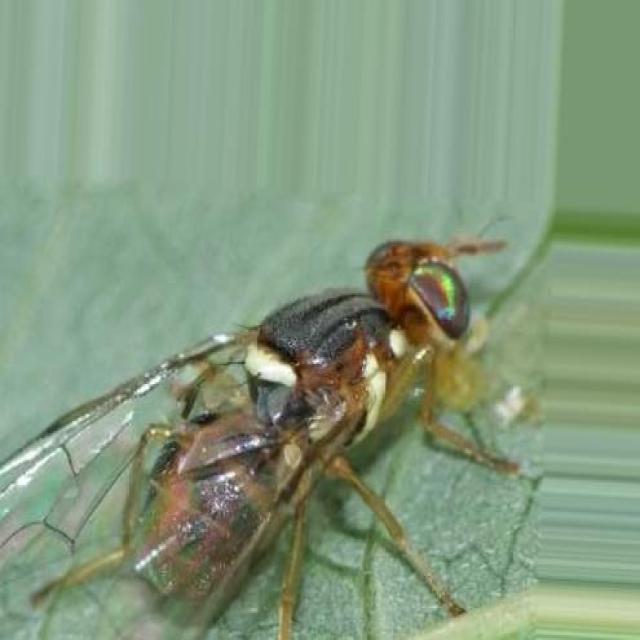Anthracnose: (0, 214, 556, 640)
